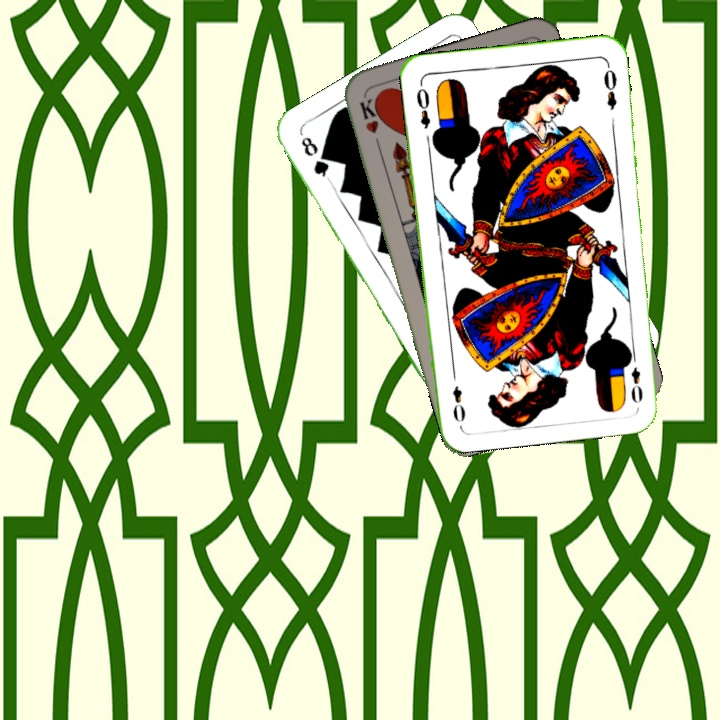EO: (624, 348, 646, 406), (412, 79, 433, 131)
G8: (297, 132, 333, 184)
HK: (356, 94, 384, 153)
